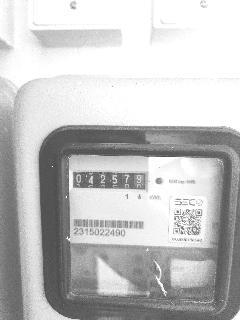1: (77, 174, 81, 182)
3: (101, 175, 106, 183)
5: (89, 176, 93, 184)
6: (113, 175, 117, 183)
8: (125, 175, 130, 183)
:: (137, 175, 141, 183)
